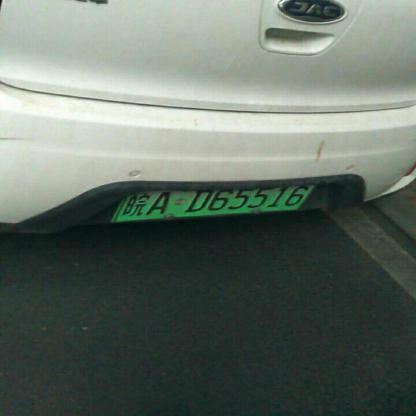lp: (112, 184, 315, 222)
